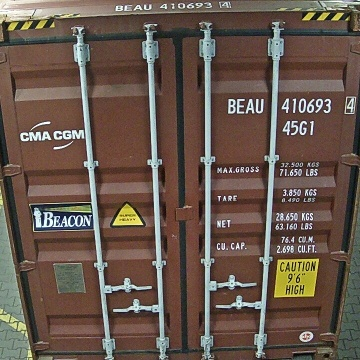serial_id: (228, 96, 356, 113)
